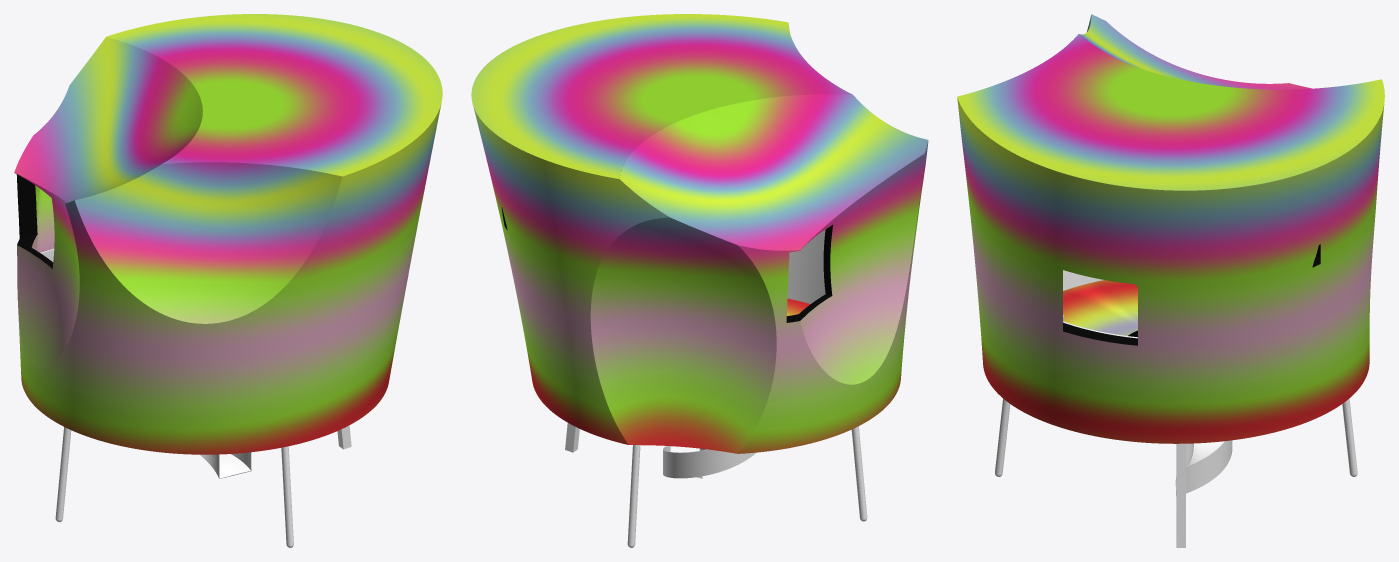
The picture shows the model from 3 angles, left to right: view 1: azimuth 30°, elevation 25°; view 2: azimuth 150°, elevation 25°; view 3: azimuth 270°, elevation 25°; orthographic projection. The views are drawn at different scales.
Visible parts, largest first — view 1: Solids, Legs, Frames, Solids_2, Ramp; view 2: Solids, Display wall, Ramp, Legs, Frames; view 3: Solids, Solids_2, Legs, Ramp, Frames, Display wall.
Part boxes in pixels (left/top/right/bottom): Solids: left=14, top=14, right=442, bottom=454; Legs: left=55, top=425, right=351, bottom=547; Frames: left=16, top=174, right=408, bottom=276; Solids_2: left=31, top=185, right=208, bottom=323; Ramp: left=200, top=452, right=251, bottom=478; Solids: left=471, top=14, right=928, bottom=453; Display wall: left=787, top=229, right=825, bottom=303; Ramp: left=663, top=446, right=755, bottom=478; Legs: left=565, top=423, right=867, bottom=547; Frames: left=501, top=207, right=832, bottom=322; Solids: left=957, top=14, right=1384, bottom=443; Solids_2: left=1063, top=280, right=1137, bottom=335; Legs: left=995, top=398, right=1357, bottom=547; Ramp: left=1175, top=440, right=1232, bottom=495; Frames: left=1063, top=244, right=1320, bottom=345; Display wall: left=1063, top=247, right=1318, bottom=338.
Bounding box in the file's own units: 23.99 × 22.19 × 21.69.
Materials: 3 (3 with a texture image).
